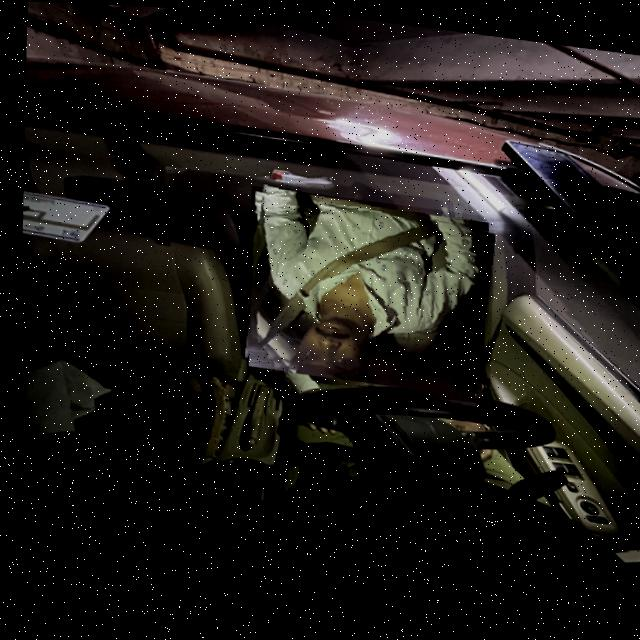seatbelt: (232, 182, 501, 400)
